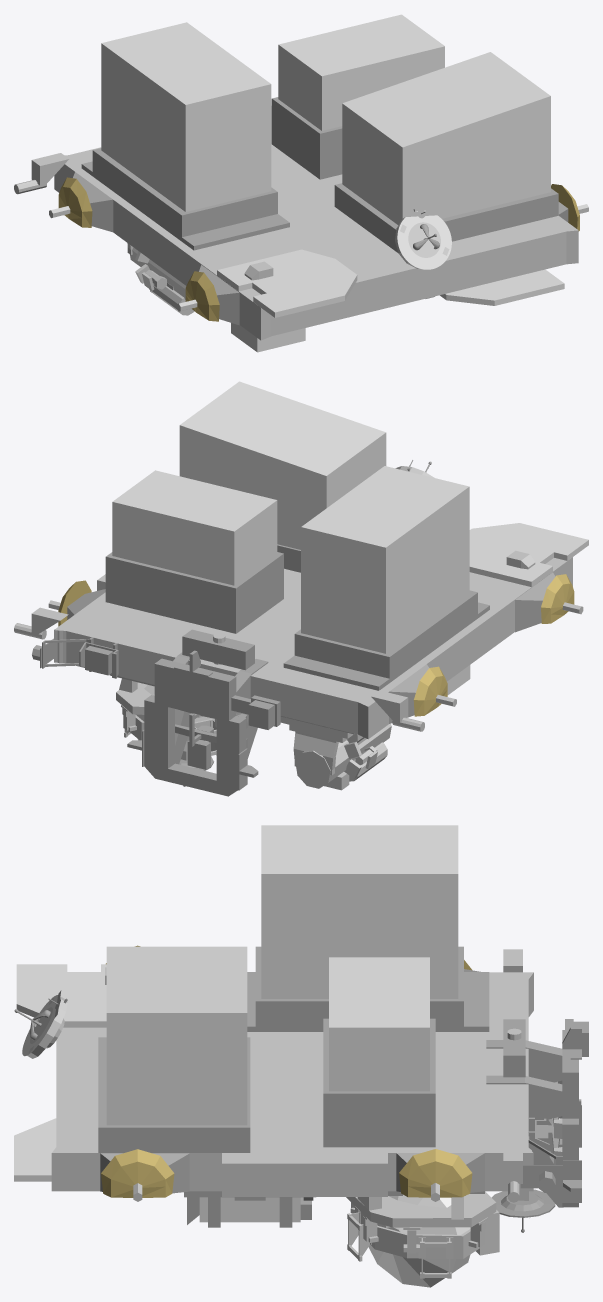
Rendered from ELC1.glb.
3 renders of one model, top to bottom at view 1: azimuth 30°, elevation 25°; view 2: azimuth 150°, elevation 25°; view 3: azimuth 270°, elevation 25°, orthographic. The views are drawn at different scales.
Visible parts, largest first — view 1: ELC1_lofi_orig CAD; view 2: ELC1_lofi_orig CAD; view 3: ELC1_lofi_orig CAD.
Boxes of the visible parts, x1,y1,x2,y2 form: ELC1_lofi_orig CAD: (14, 14, 588, 352); ELC1_lofi_orig CAD: (14, 381, 588, 796); ELC1_lofi_orig CAD: (14, 825, 588, 1287).
Bounding box in the file's own units: 208 × 137 × 216.
